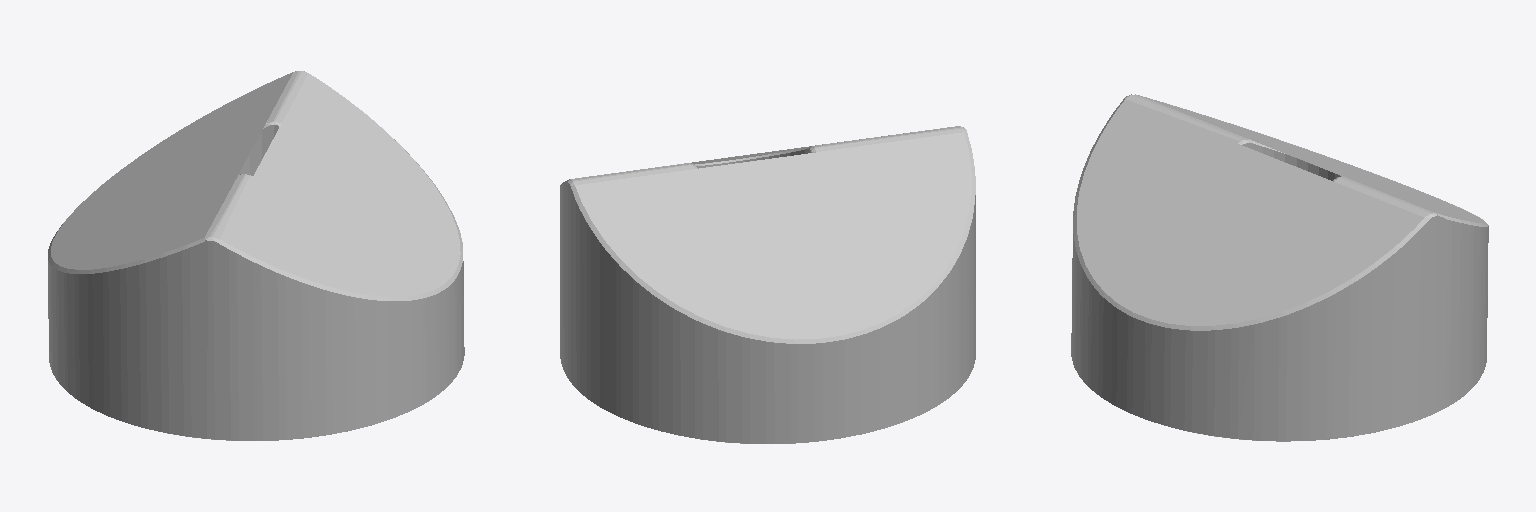
Rendered from prizma1o.obj.
3 renders of one model, left to right at view 1: azimuth 30°, elevation 25°; view 2: azimuth 150°, elevation 25°; view 3: azimuth 270°, elevation 25°, orthographic.
Visible parts, largest first — view 1: Cylinder.007_Cylinder; view 2: Cylinder.007_Cylinder; view 3: Cylinder.007_Cylinder.
Boxes of the visible parts, <box> form: Cylinder.007_Cylinder: <box>48,71,464,440</box>; Cylinder.007_Cylinder: <box>560,126,975,443</box>; Cylinder.007_Cylinder: <box>1071,94,1488,441</box>.
Size of the model in its own units: 0.2136 by 0.1162 by 0.2141.